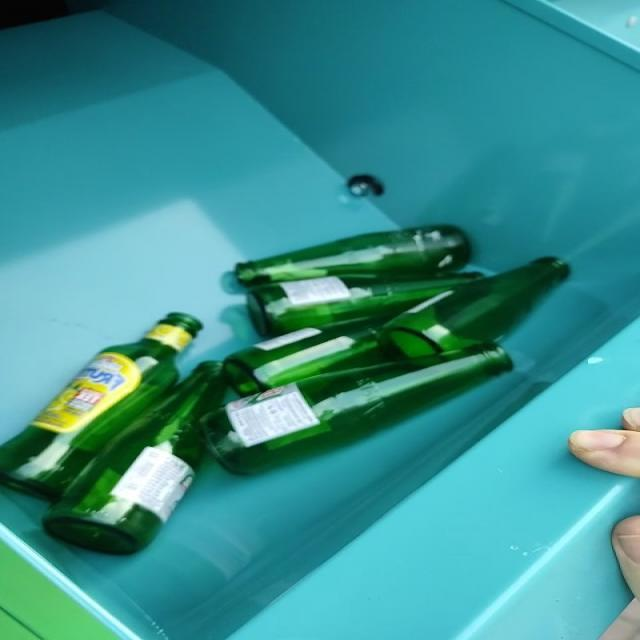Glass: (0, 226, 567, 555)
